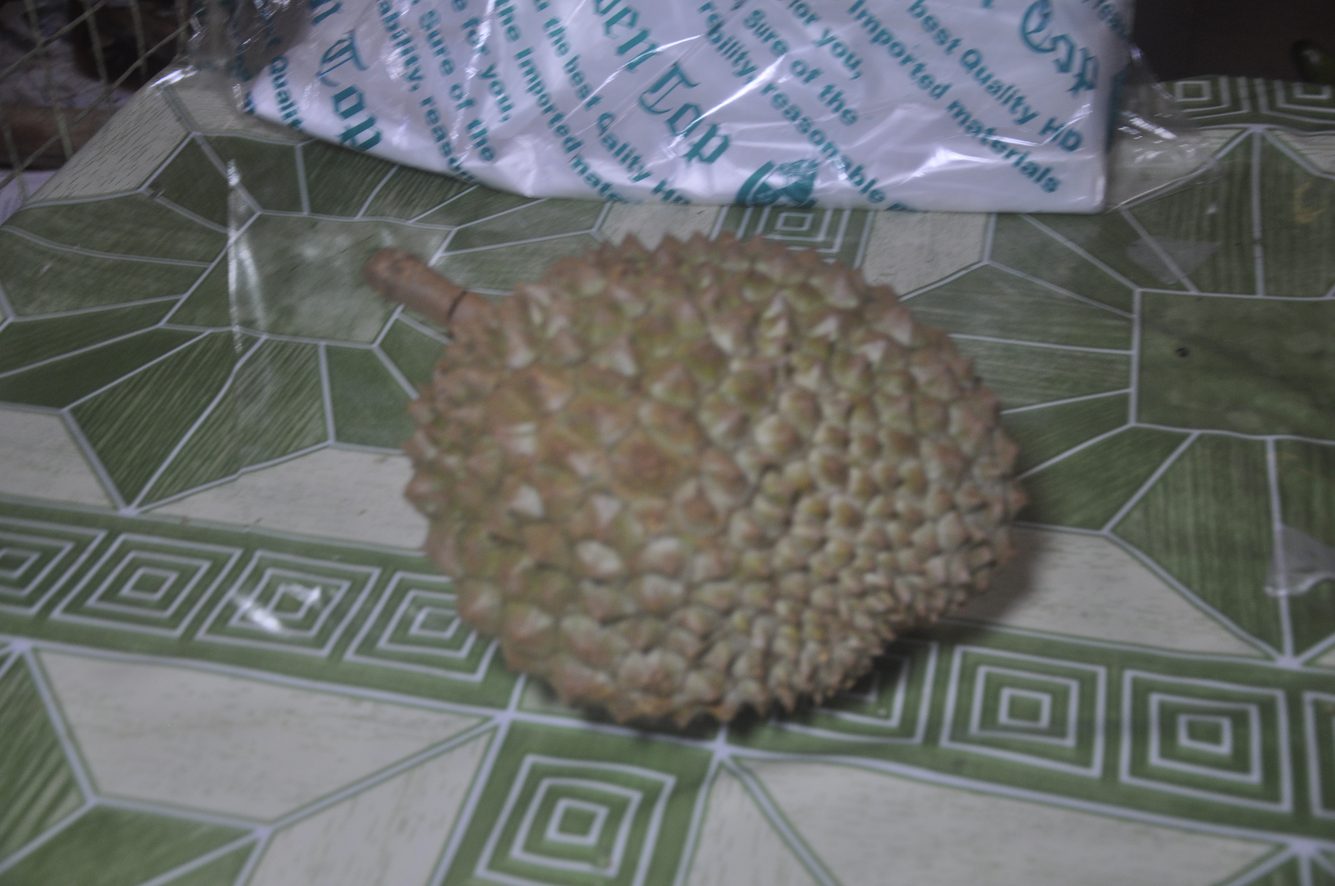mature: (316, 196, 1073, 730)
